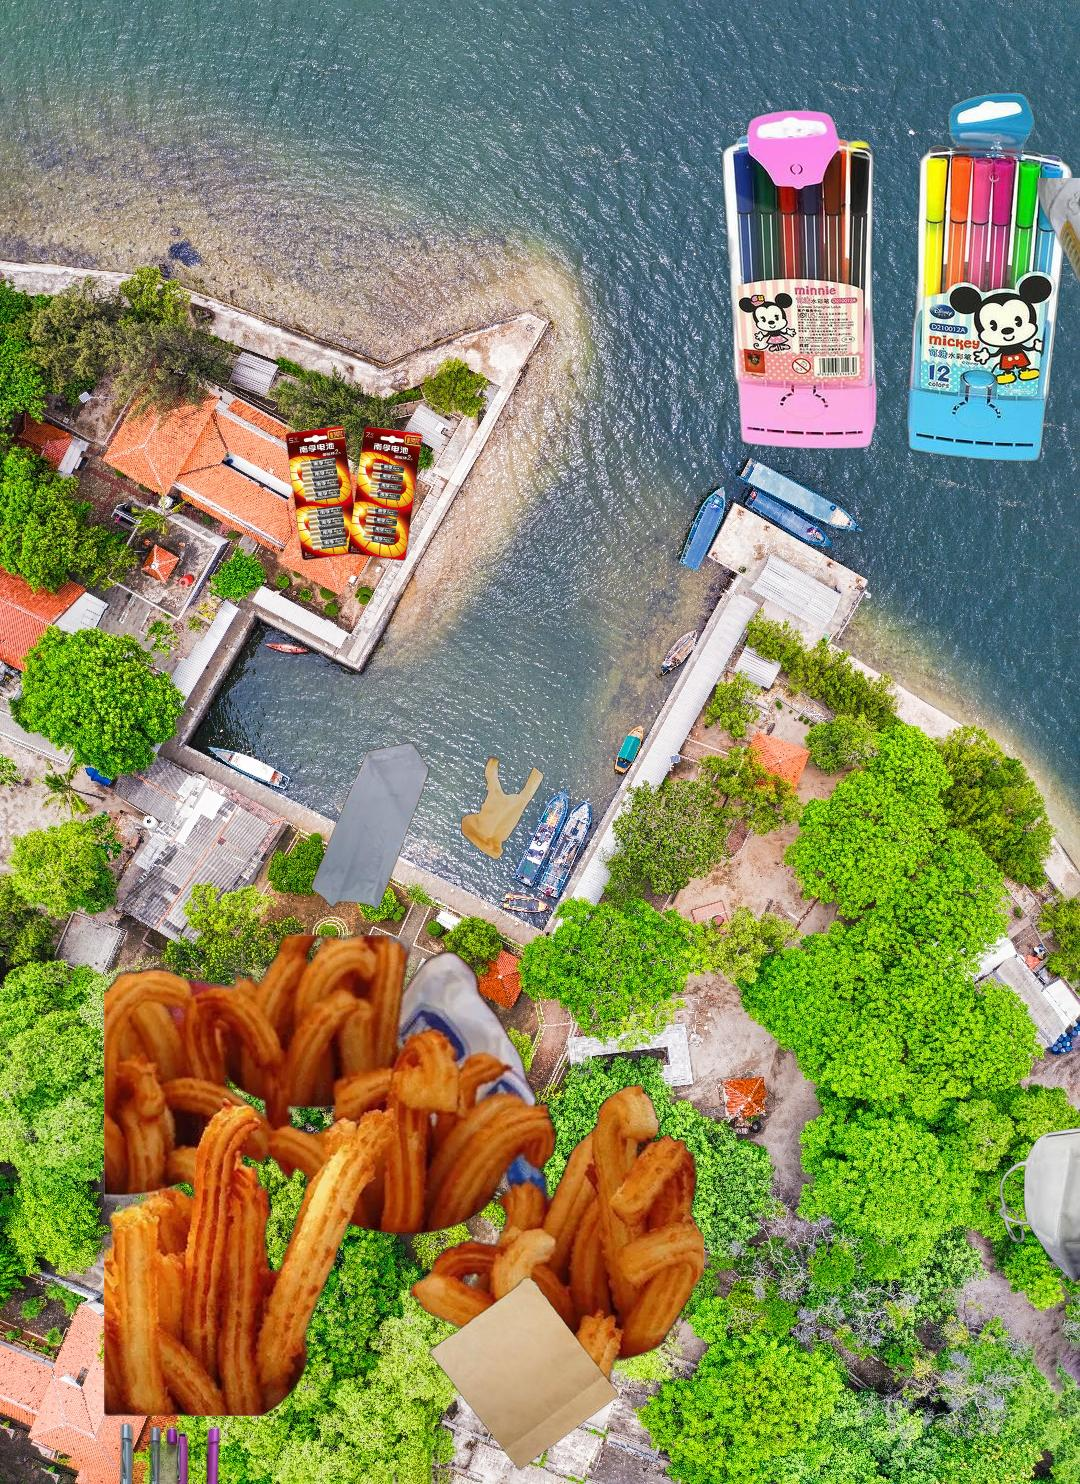battery: (284, 423, 425, 565)
biological: (104, 936, 704, 1416)
glass: (1032, 177, 1080, 562)
paper-bag: (426, 1274, 622, 1472)
penholder: (718, 89, 1078, 465), (112, 1419, 228, 1484)
plastic-bag: (308, 662, 545, 913)
trash: (996, 1125, 1080, 1286)
